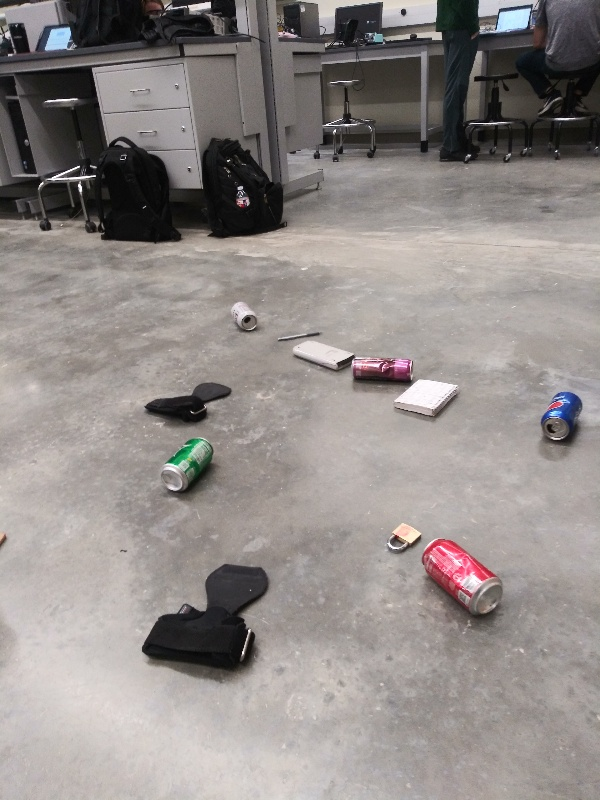can: (414, 535, 505, 621), (155, 432, 220, 499), (538, 388, 587, 447), (346, 351, 421, 388), (224, 296, 264, 335)
